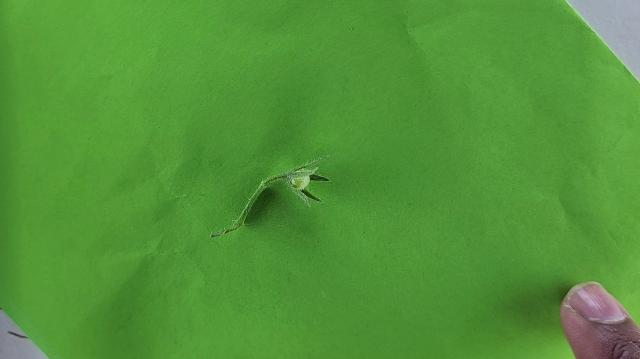Fruit Bud: (286, 169, 330, 206)
